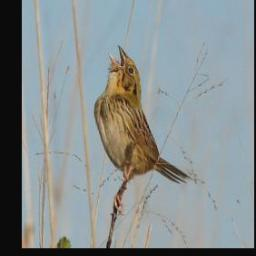Sparrow: (93, 44, 193, 214)
